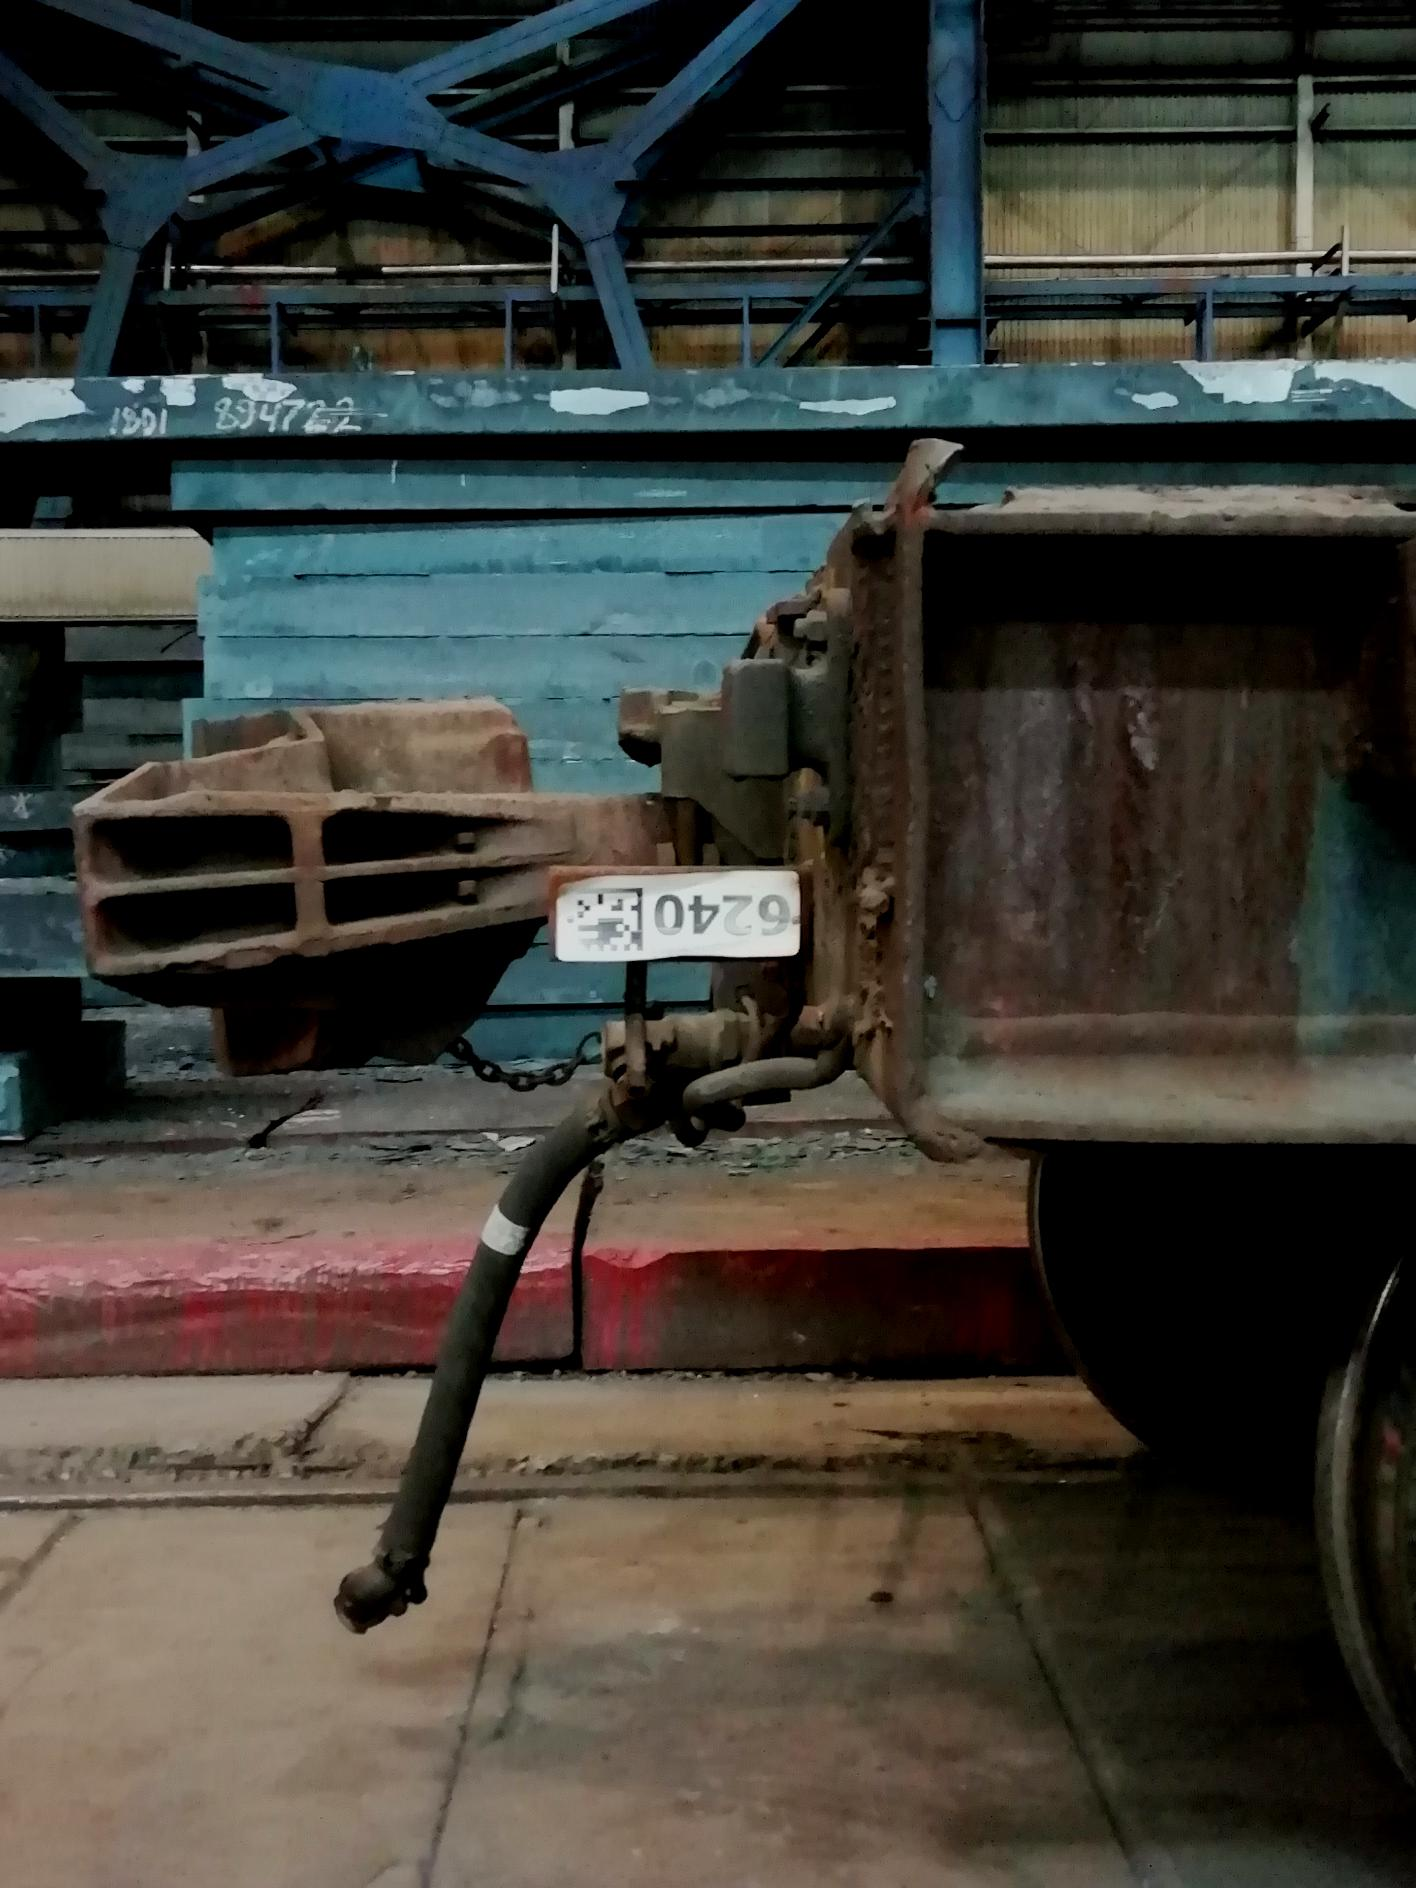data matrix: (547, 880, 656, 972)
